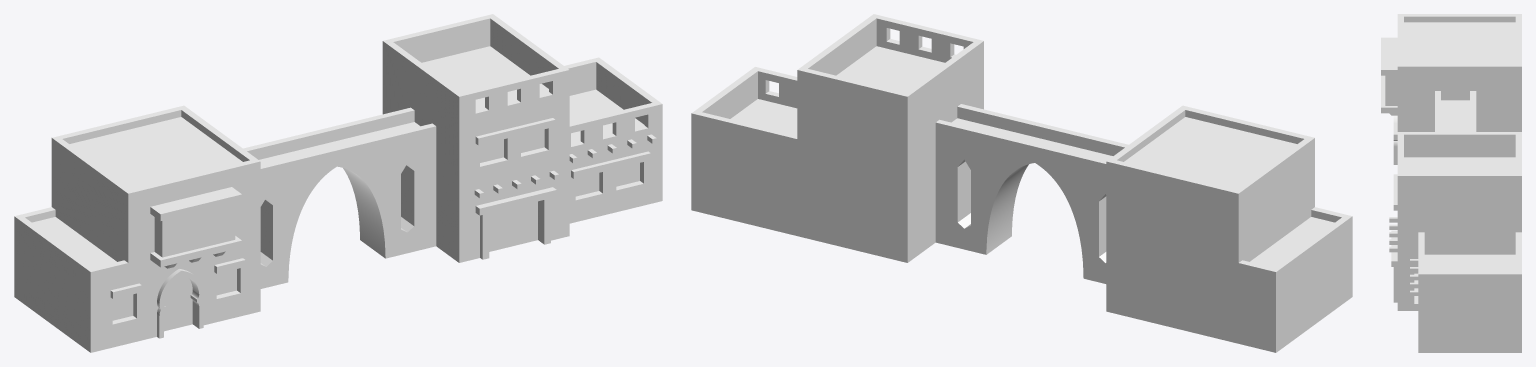
File: building_4.gltf
The picture shows the model from 3 angles, left to right: view 1: azimuth 30°, elevation 25°; view 2: azimuth 150°, elevation 25°; view 3: azimuth 270°, elevation 25°; orthographic projection. The views are drawn at different scales.
Visible parts, largest first — view 1: building_4; view 2: building_4; view 3: building_4.
Part boxes in pixels (left/top/right/bottom): building_4: left=14, top=14, right=662, bottom=352; building_4: left=691, top=14, right=1352, bottom=352; building_4: left=1381, top=14, right=1521, bottom=352.
Size of the model in its own units: 26.5 by 7.2 by 6.8.
1 material, 1 textured.
